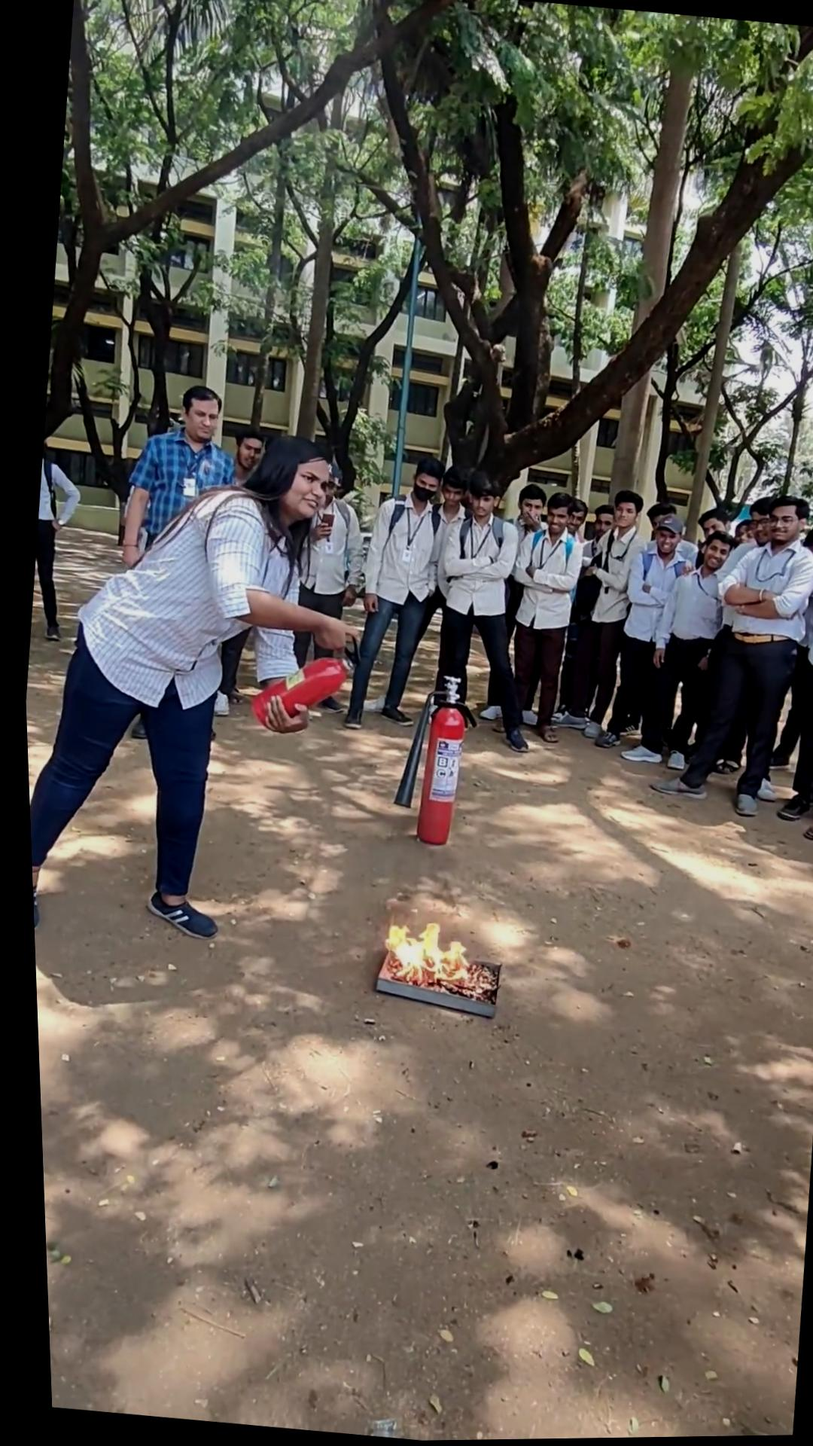FireExtinguisher: (379, 670, 486, 859), (225, 613, 371, 751)
not: (326, 909, 532, 1041)
